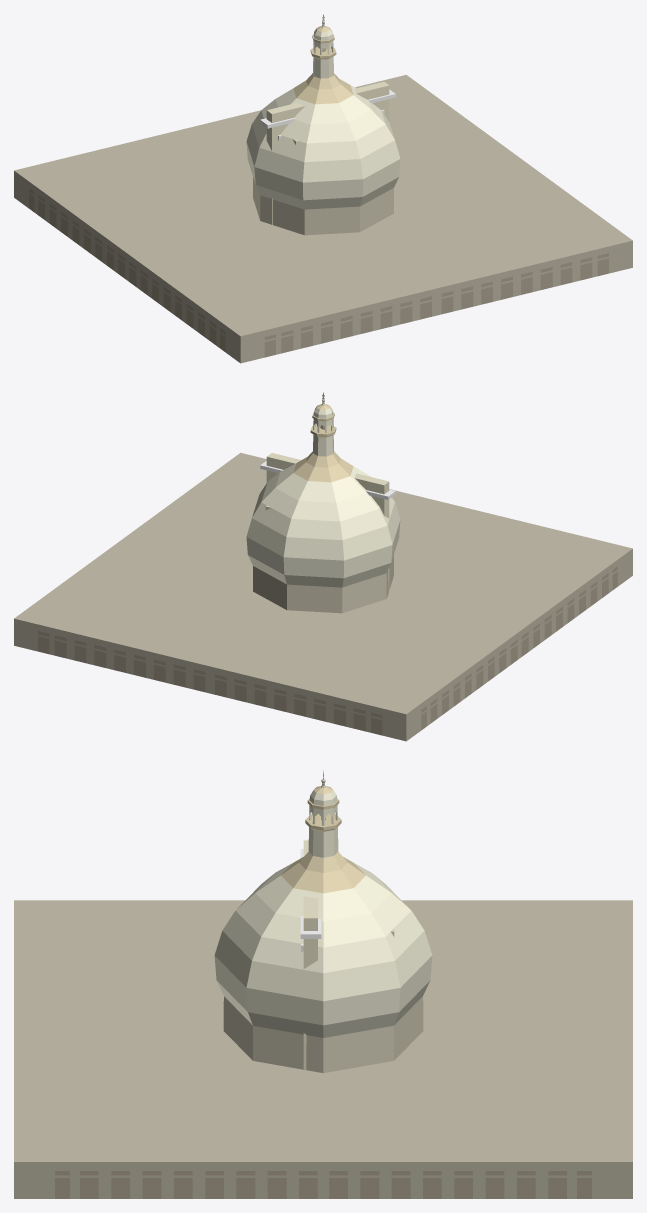
Rendered from delh_arch_01.fbx.
The picture shows the model from 3 angles, top to bottom: view 1: azimuth 30°, elevation 25°; view 2: azimuth 150°, elevation 25°; view 3: azimuth 270°, elevation 25°; orthographic projection. The views are drawn at different scales.
Parts seen in each view (by area): view 1: delh_arch_01_base_01, delh_arch_01_center_dome_01, delh_arch_01_door_wall_01, delh_arch_01_pillar_01; view 2: delh_arch_01_base_01, delh_arch_01_center_dome_01, delh_arch_01_door_wall_01, delh_arch_01_pillar_01; view 3: delh_arch_01_base_01, delh_arch_01_center_dome_01, delh_arch_01_pillar_01, delh_arch_01_door_wall_01.
Boxes of the visible parts, bbox=[...] form: delh_arch_01_base_01: bbox=[14, 74, 632, 363]; delh_arch_01_center_dome_01: bbox=[246, 47, 400, 235]; delh_arch_01_door_wall_01: bbox=[260, 81, 395, 224]; delh_arch_01_pillar_01: bbox=[310, 14, 336, 78]; delh_arch_01_base_01: bbox=[14, 452, 632, 741]; delh_arch_01_center_dome_01: bbox=[246, 425, 400, 613]; delh_arch_01_door_wall_01: bbox=[260, 453, 395, 592]; delh_arch_01_pillar_01: bbox=[310, 392, 336, 456]; delh_arch_01_base_01: bbox=[14, 900, 632, 1198]; delh_arch_01_center_dome_01: bbox=[214, 817, 432, 1073]; delh_arch_01_pillar_01: bbox=[305, 770, 341, 857]; delh_arch_01_door_wall_01: bbox=[300, 840, 321, 1070].
Bounding box in the file's own units: 5293 × 2811 × 5293.
